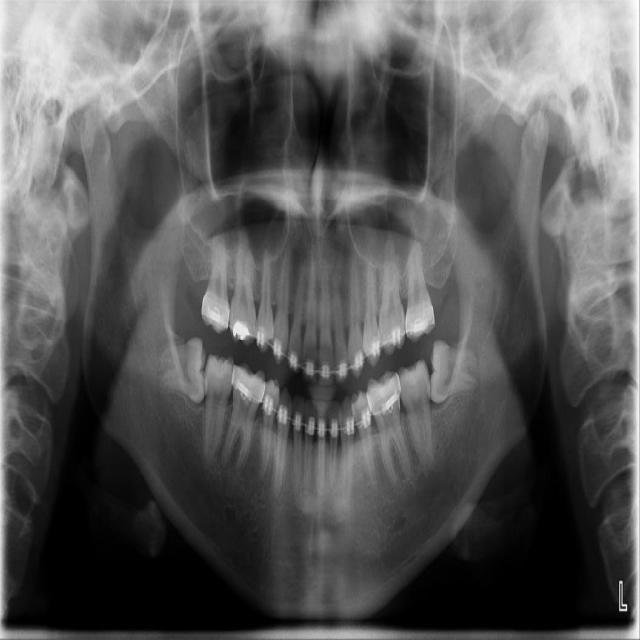impacted tooth: (155, 340, 208, 401), (432, 340, 484, 401)
